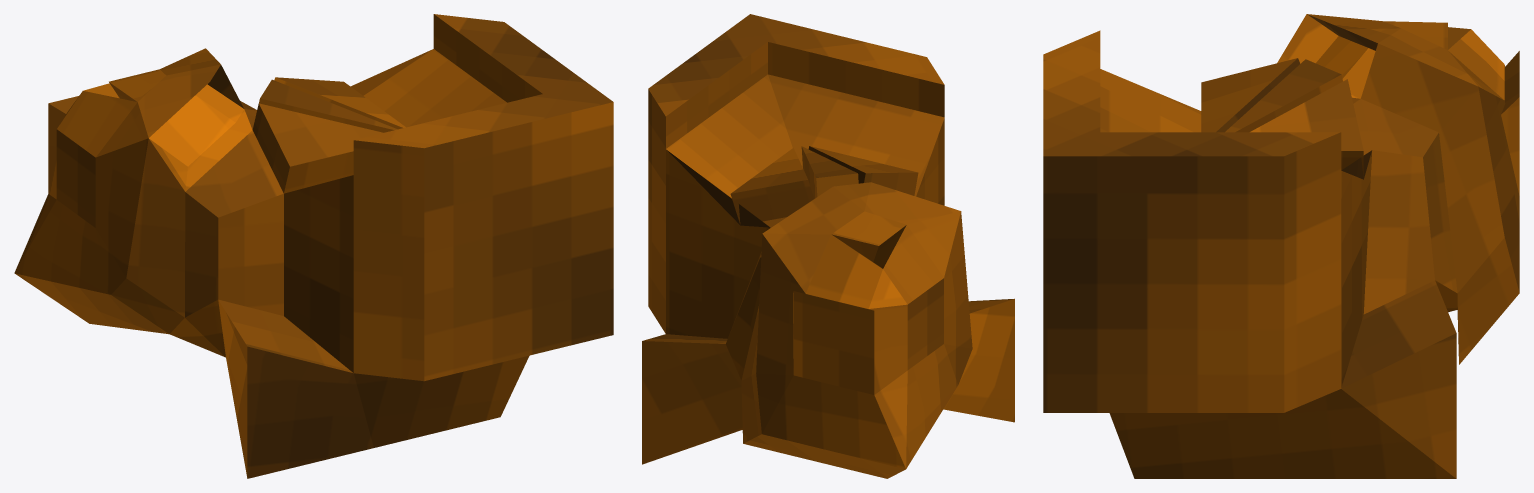
The model's file is asteroid_medium2.fbx.
The picture shows the model from 3 angles, left to right: view 1: azimuth 30°, elevation 25°; view 2: azimuth 150°, elevation 25°; view 3: azimuth 270°, elevation 25°; orthographic projection. The views are drawn at different scales.
Parts seen in each view (by area): view 1: Cube; view 2: Cube; view 3: Cube.
Boxes of the visible parts, x1,y1,x2,y2 form: Cube: [14, 14, 613, 478]; Cube: [642, 14, 1014, 478]; Cube: [1043, 14, 1519, 478].
Size of the model in its own units: 4.9 by 4.01 by 4.79.
1 material, 1 textured.
